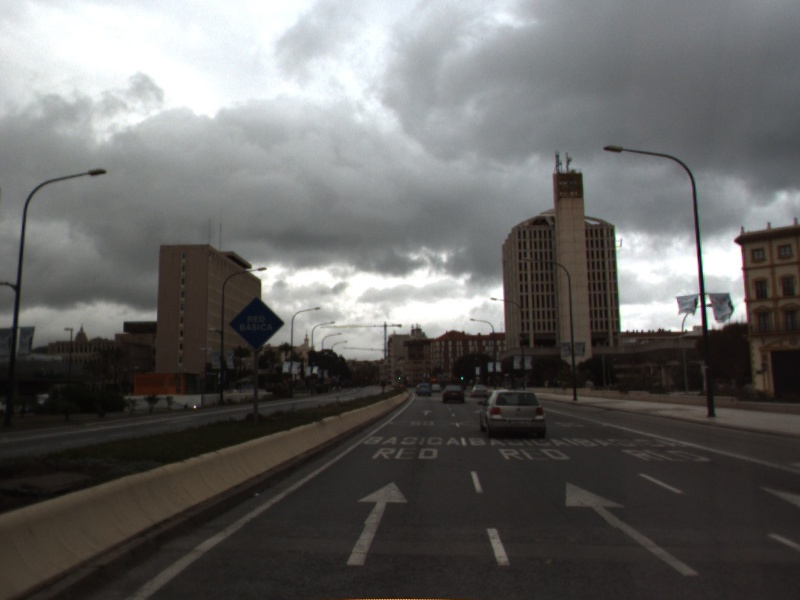STRAIGHT: (561, 478, 705, 580), (343, 479, 411, 568), (419, 408, 435, 417)
